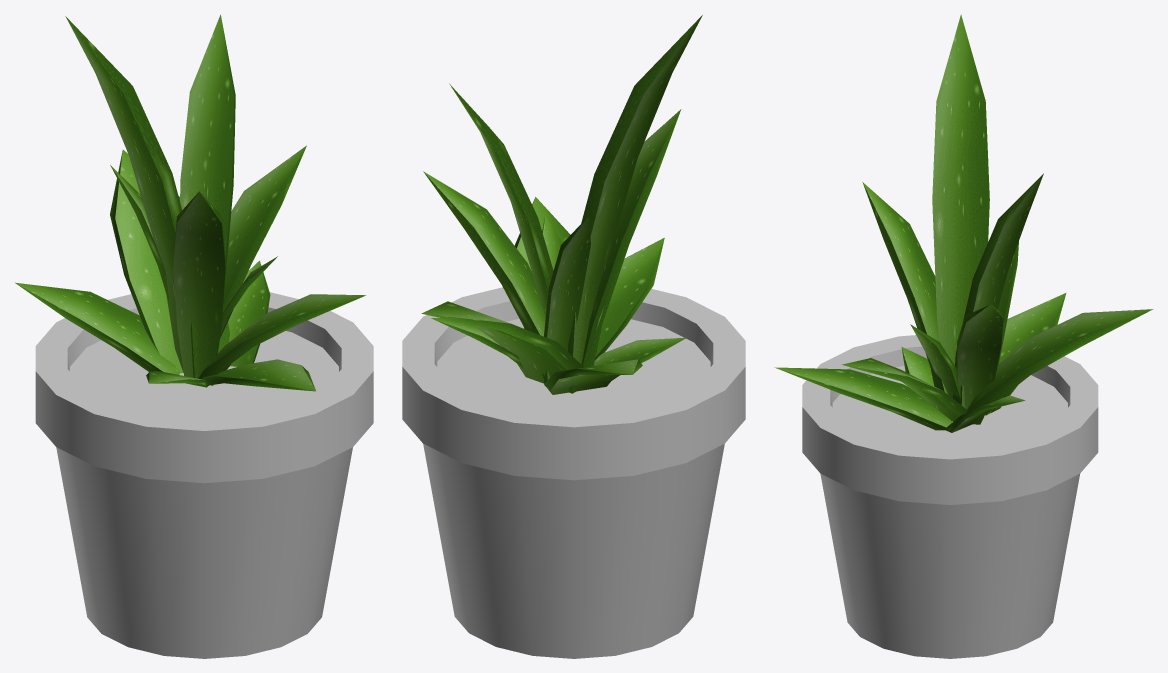
File: FlowerPot5.FBX
The picture shows the model from 3 angles, left to right: view 1: azimuth 30°, elevation 25°; view 2: azimuth 150°, elevation 25°; view 3: azimuth 270°, elevation 25°; orthographic projection. The views are drawn at different scales.
Visible parts, largest first — view 1: flowerpot2, plant3; view 2: flowerpot2, plant3; view 3: flowerpot2, plant3.
Boxes of the visible parts, x1,y1,x2,y2 form: flowerpot2: (35,292,373,658); plant3: (15,14,365,391); flowerpot2: (402,287,745,658); plant3: (421,15,702,394); flowerpot2: (802,335,1098,658); plant3: (774,14,1153,432).
Bounding box in the file's own units: 8.36 × 16.71 × 10.57.
